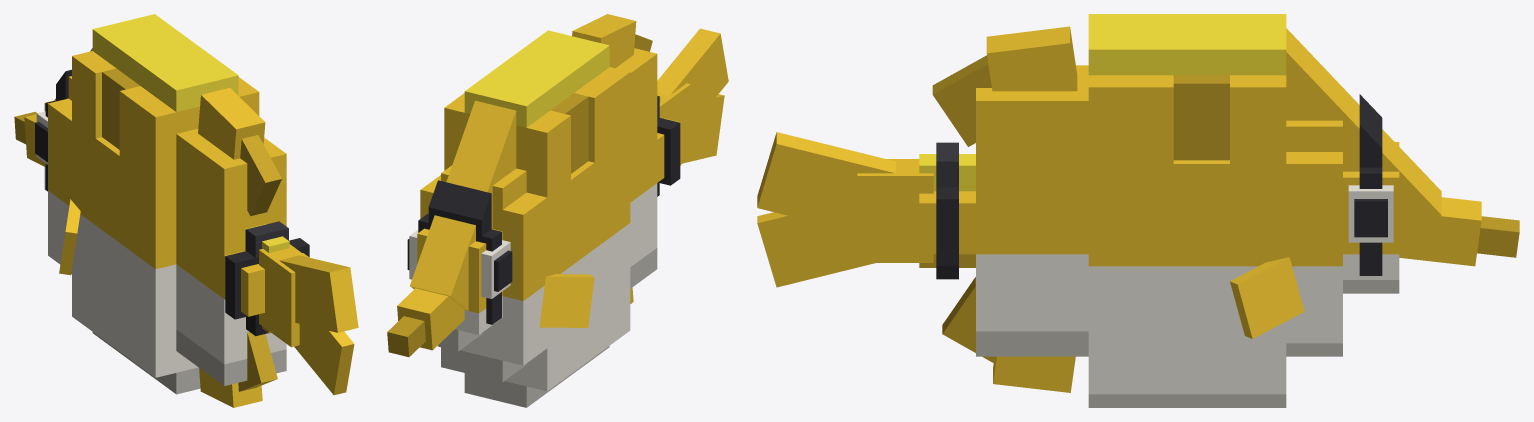
The model's file is Butterflyfish.obj.
3 renders of one model, left to right at view 1: azimuth 30°, elevation 25°; view 2: azimuth 150°, elevation 25°; view 3: azimuth 270°, elevation 25°, orthographic. The views are drawn at different scales.
Parts seen in each view (by area): view 1: Head, Rear, Tail, Stalk; view 2: Head, Rear, Tail, Stalk; view 3: Head, Rear, Tail, Stalk.
Part boxes in pixels (x1,y1,x2,y2): Head: (14, 14, 259, 394); Rear: (176, 88, 286, 407); Tail: (259, 244, 358, 395); Stalk: (224, 221, 309, 336); Head: (387, 30, 630, 407); Rear: (572, 14, 657, 303); Tail: (657, 28, 728, 164); Stalk: (657, 95, 680, 196); Head: (1088, 14, 1519, 407); Rear: (932, 26, 1088, 392); Tail: (757, 132, 933, 287); Stalk: (919, 142, 975, 279).
Bounding box in the file's own units: 2.66 × 4.9 × 9.45.
Materials: 1 (1 with a texture image).
